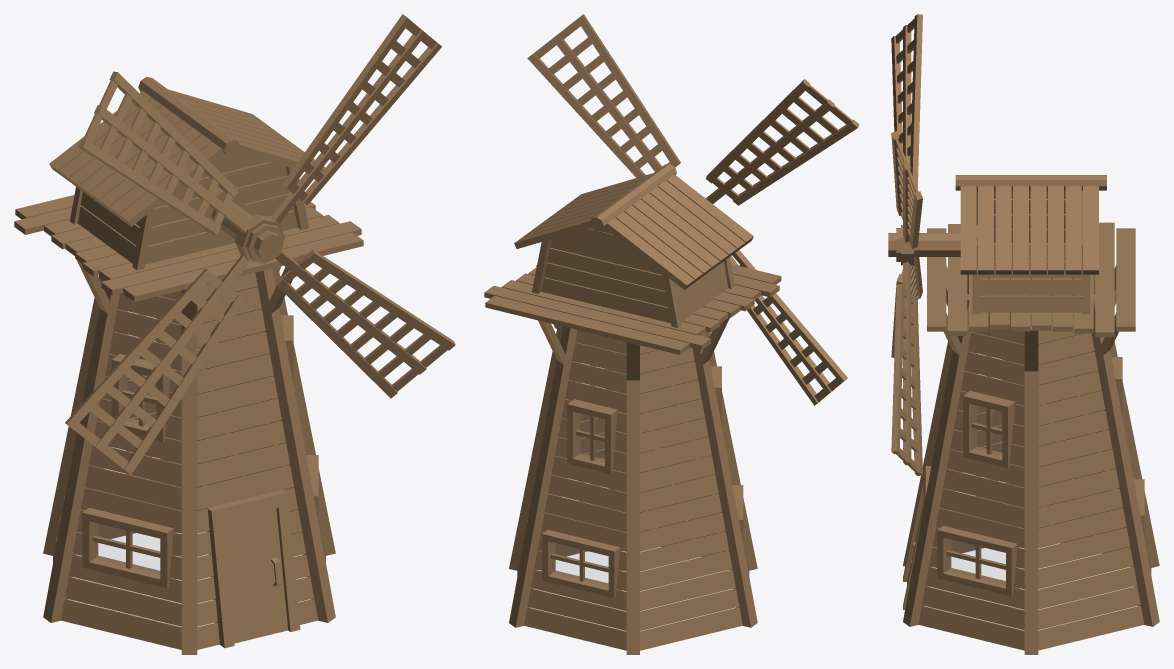
The model's file is windmill.fbx.
3 renders of one model, left to right at view 1: azimuth 30°, elevation 25°; view 2: azimuth 150°, elevation 25°; view 3: azimuth 270°, elevation 25°, orthographic. The views are drawn at different scales.
Visible parts, largest first — view 1: polySurface17, Bottom_01, Wing_02, Roof, polySurface94, Wing_01, Top, Window_Frame, Glass; view 2: polySurface17, Bottom_01, Wing_02, Roof, Top, Window_Frame, Wing_01, Glass, polySurface4; view 3: polySurface17, Bottom_01, Roof, Wing_02, Window_Frame, Top, Wing_01, Glass, polySurface94.
Part boxes in pixels (x1,y1,x2,y2): polySurface17: (53, 272, 325, 649); Bottom_01: (14, 195, 363, 654); Wing_02: (65, 14, 455, 474); Roof: (49, 77, 325, 226); polySurface94: (204, 489, 300, 648); Wing_01: (94, 29, 426, 451); Top: (70, 152, 308, 270); Window_Frame: (82, 296, 318, 588); Glass: (94, 375, 159, 573); polySurface17: (517, 330, 749, 650); Bottom_01: (484, 264, 781, 654); Wing_02: (527, 14, 859, 405); Roof: (514, 163, 753, 289); Top: (531, 227, 734, 327); Window_Frame: (542, 349, 743, 598); Wing_01: (552, 34, 834, 394); Glass: (552, 413, 607, 585); polySurface4: (640, 569, 735, 610); polySurface17: (918, 278, 1151, 650); Bottom_01: (903, 222, 1159, 654); Roof: (955, 175, 1106, 274); Wing_02: (891, 14, 922, 475); Window_Frame: (937, 339, 1144, 596); Top: (972, 190, 1090, 314); Wing_01: (888, 25, 960, 464); Glass: (948, 405, 1005, 583); polySurface94: (903, 466, 931, 609).
Size of the model in its own units: 27.7 by 41.86 by 19.76.
